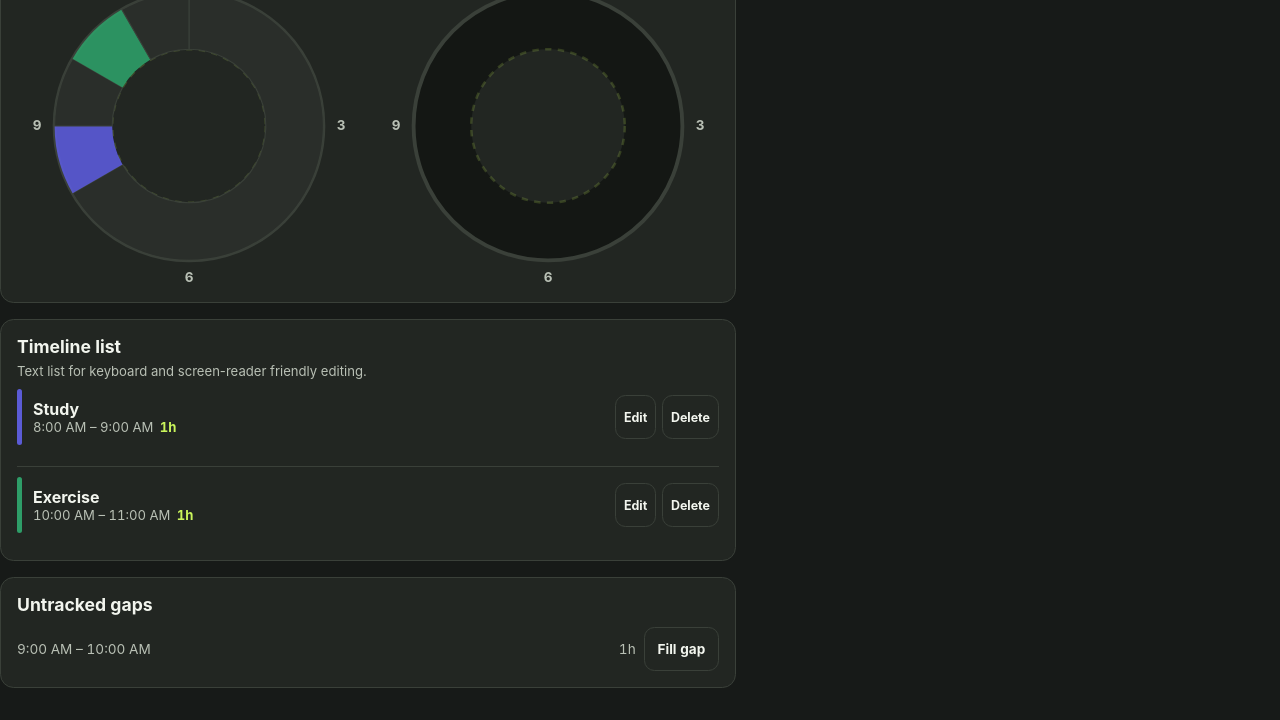
Test case: TodayScreen › opens a gap editor with the gap times prefilled
The width and height of the screenshot is (1280, 720).
(page scrolled)
Click the button "Fill gap" at (681,649), box [644, 627, 719, 671]
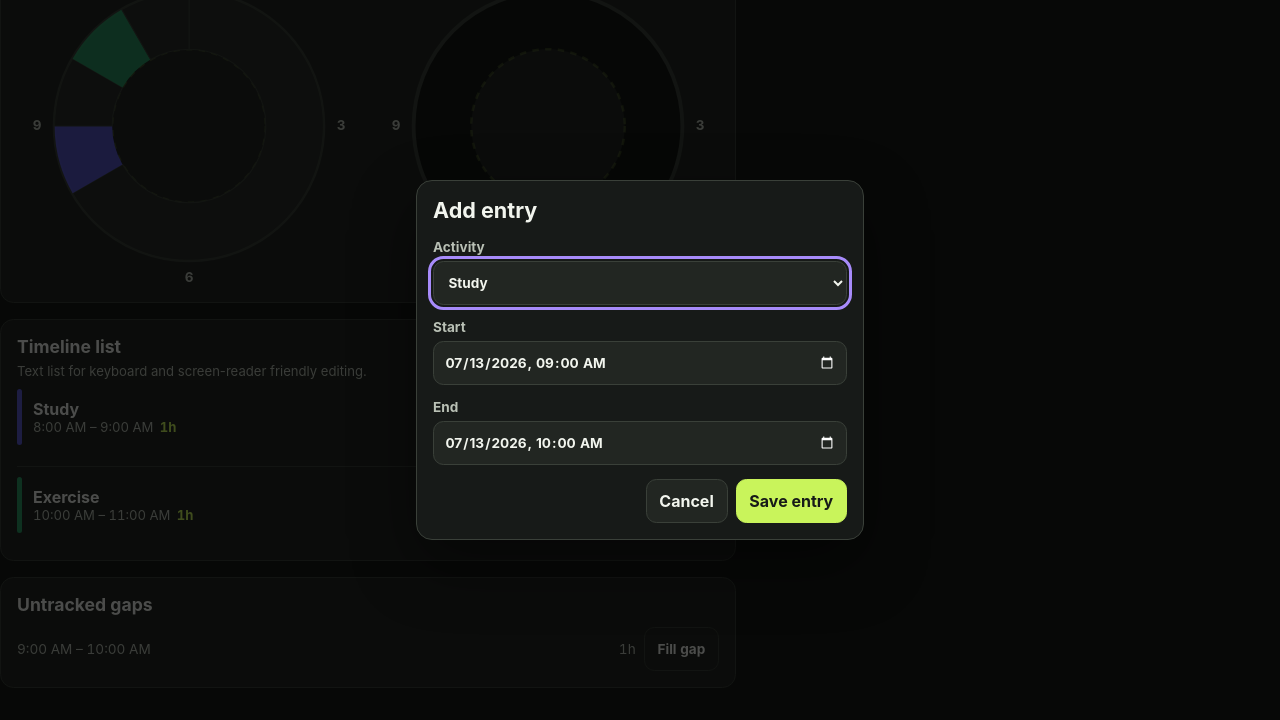
Result: the field labelled "Start" holds "2026-07-13T09:00" at [433, 341, 847, 385]
Result: the field labelled "End" holds "2026-07-13T10:00" at [433, 421, 847, 465]
